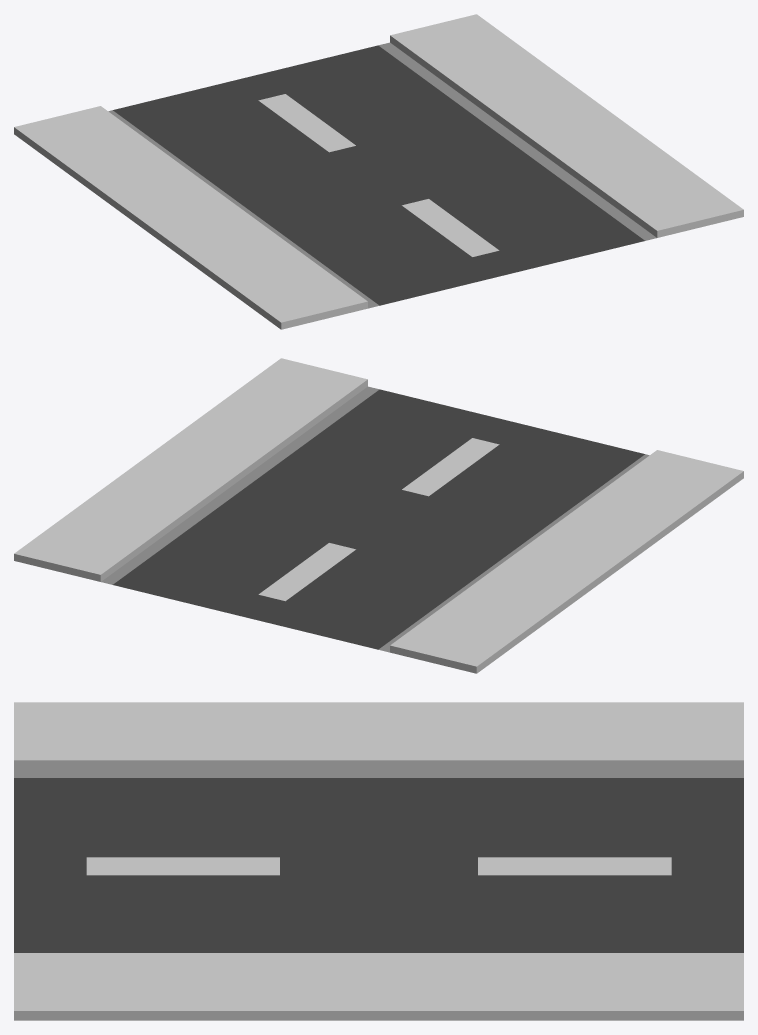
File: Road_Part_1.FBX
3 views of the same model, one above another, from view 1: azimuth 30°, elevation 25°; view 2: azimuth 150°, elevation 25°; view 3: azimuth 270°, elevation 25° (orthographic). The views are drawn at different scales.
Visible parts, largest first — view 1: Road Part 01; view 2: Road Part 01; view 3: Road Part 01.
Boxes of the visible parts, left/top/right/bottom form: Road Part 01: left=14, top=14, right=743, bottom=329; Road Part 01: left=14, top=358, right=743, bottom=673; Road Part 01: left=14, top=702, right=743, bottom=1020.
Bounding box in the file's own units: 9 × 0.1326 × 9.
1 material, 1 textured.
